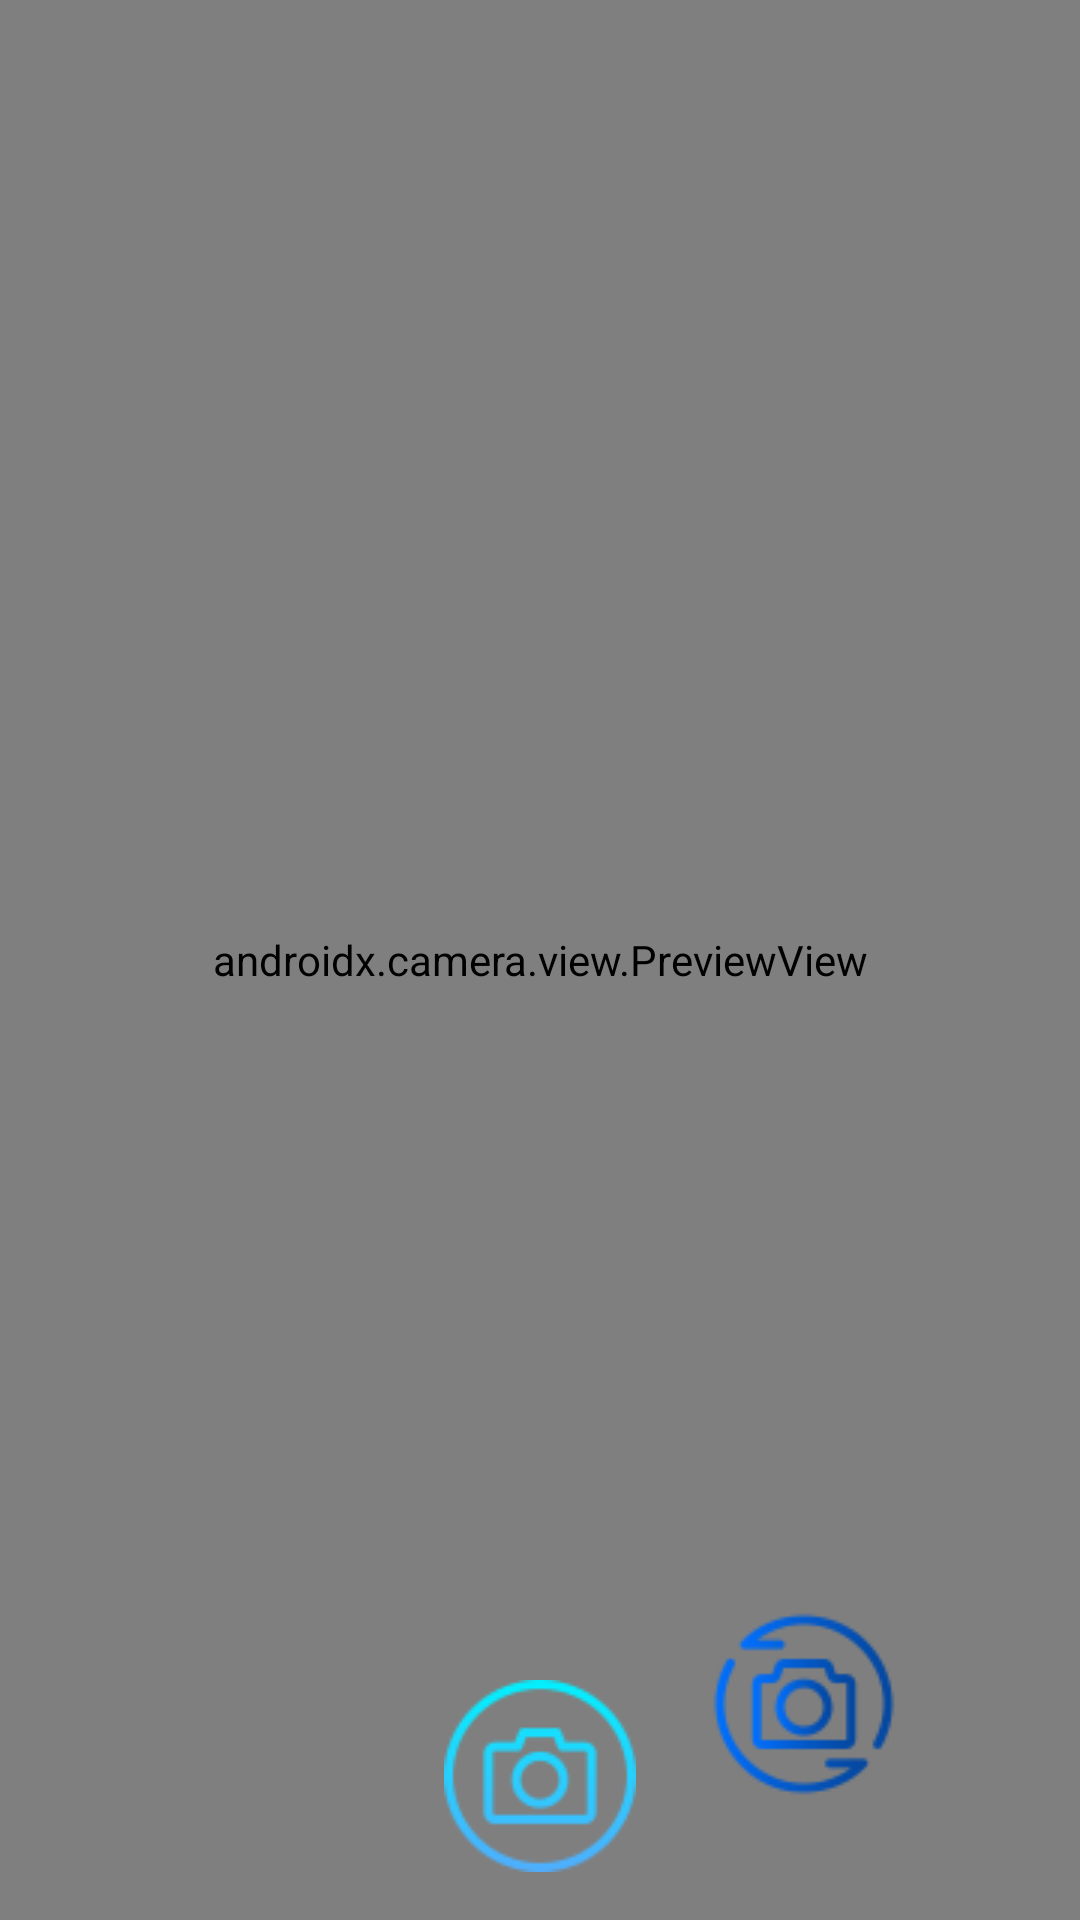

Named icons in this screenshot (1080px×1920px) and their centers, (x,y):
camera main: (540,1776)
switch camera: (804,1704)
